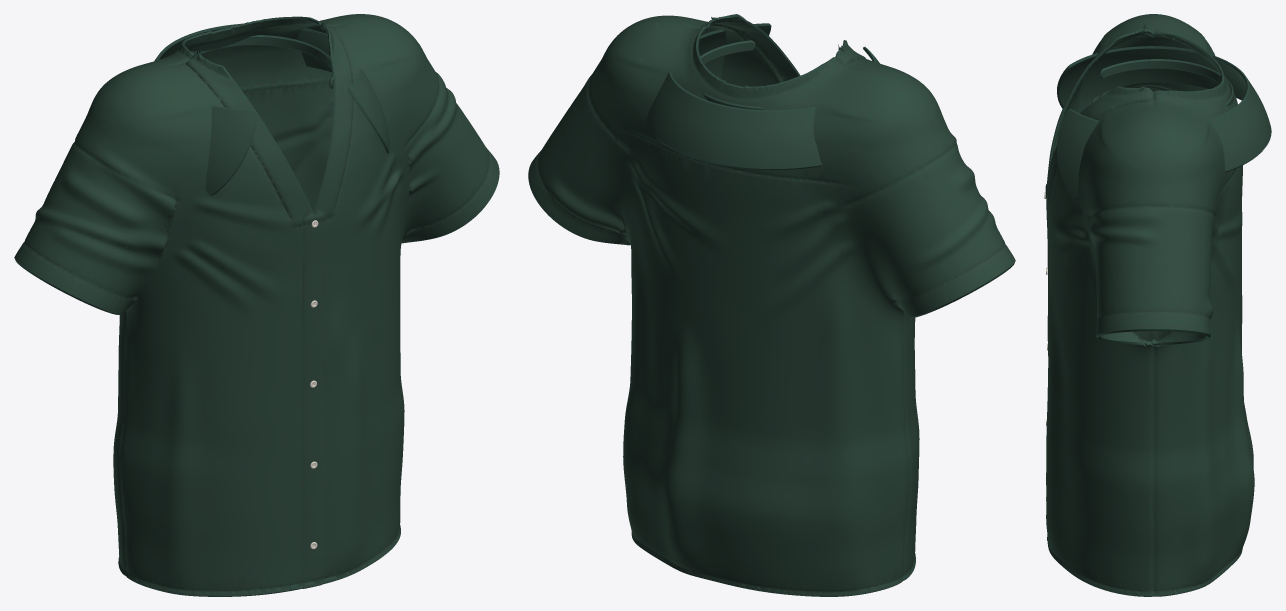
The model's file is 07_camisa_cubana_pbr.glb.
3 renders of one model, left to right at view 1: azimuth 30°, elevation 25°; view 2: azimuth 150°, elevation 25°; view 3: azimuth 270°, elevation 25°, orthographic. The views are drawn at different scales.
Visible parts, largest first — view 1: Camiseta PBR; view 2: Camiseta PBR; view 3: Camiseta PBR.
Part boxes in pixels (bbox=[...]): Camiseta PBR: bbox=[14, 14, 499, 596]; Camiseta PBR: bbox=[528, 14, 1015, 596]; Camiseta PBR: bbox=[1045, 14, 1271, 596].
Size of the model in its own units: 0.7312 by 0.7736 by 0.3283.
2 materials, 1 textured.
